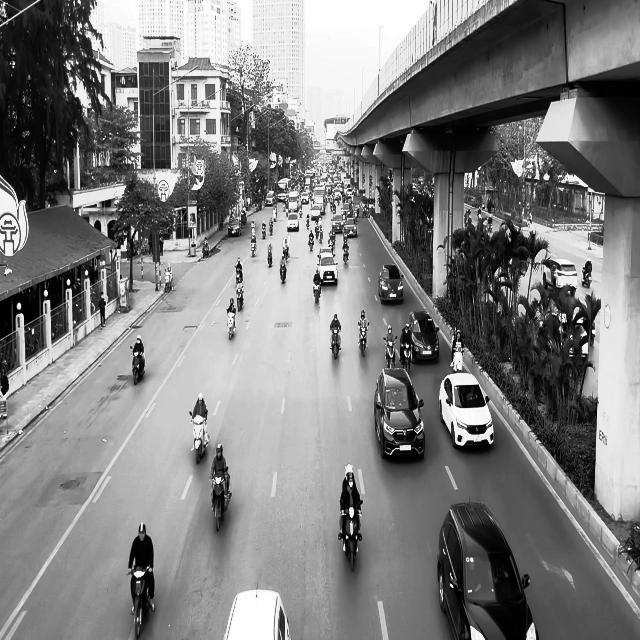car: (437, 500, 539, 640), (374, 366, 424, 458), (438, 372, 494, 448), (223, 584, 291, 640), (407, 310, 440, 361), (542, 258, 578, 297), (378, 264, 404, 303), (228, 218, 241, 236)
motorbike: (127, 565, 152, 639), (338, 500, 362, 571), (210, 468, 232, 532), (189, 410, 210, 463), (130, 345, 145, 384), (383, 335, 397, 368), (358, 322, 370, 357), (451, 343, 464, 372), (330, 324, 340, 360), (400, 342, 412, 372), (226, 308, 236, 340), (582, 266, 592, 288), (313, 277, 321, 303), (236, 285, 243, 311), (280, 258, 286, 284), (266, 245, 272, 267)
